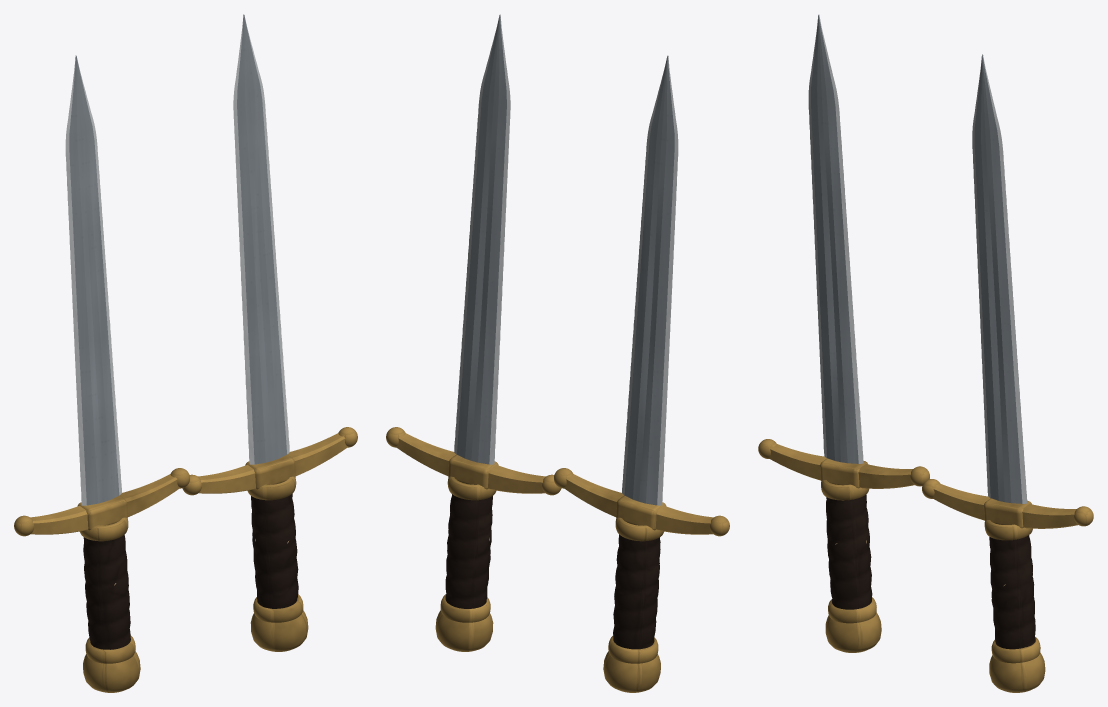
The model's file is twin-shortblade.glb.
3 renders of one model, left to right at view 1: azimuth 30°, elevation 25°; view 2: azimuth 150°, elevation 25°; view 3: azimuth 330°, elevation 25°, orthographic. The views are drawn at different scales.
Parts seen in each view (by area): view 1: steel / forged blade steel, brass / polished brass furniture, leather / oiled leather wrap, edge / honed bright bevel; view 2: steel / forged blade steel, brass / polished brass furniture, leather / oiled leather wrap, edge / honed bright bevel; view 3: steel / forged blade steel, brass / polished brass furniture, leather / oiled leather wrap, edge / honed bright bevel.
Part boxes in pixels (x1,y1,x2,y2): steel / forged blade steel: (69, 15, 286, 505); brass / polished brass furniture: (14, 427, 357, 692); leather / oiled leather wrap: (83, 494, 298, 649); edge / honed bright bevel: (65, 14, 289, 505); steel / forged blade steel: (457, 15, 674, 505); brass / polished brass furniture: (386, 427, 729, 692); leather / oiled leather wrap: (445, 494, 660, 649); edge / honed bright bevel: (454, 14, 678, 505); steel / forged blade steel: (811, 14, 1022, 503); brass / polished brass furniture: (758, 439, 1093, 692); leather / oiled leather wrap: (826, 494, 1035, 649); edge / honed bright bevel: (808, 14, 1027, 503).
Bounding box in the file's own units: 0.2846 × 0.51 × 0.0416.
Materials: 6 (4 with a texture image).
